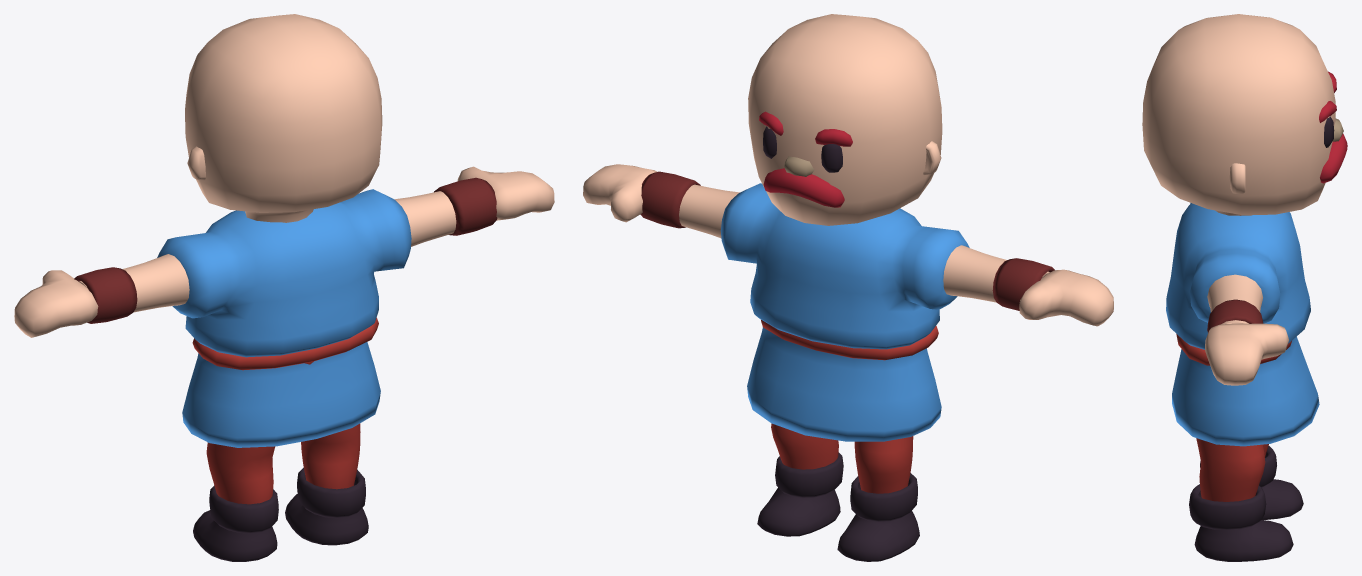
The model's file is man_08.fbx.
3 views of the same model, side by side, from view 1: azimuth 30°, elevation 25°; view 2: azimuth 150°, elevation 25°; view 3: azimuth 270°, elevation 25° (orthographic). The views are drawn at different scales.
Parts seen in each view (by area): view 1: Cube.012; view 2: Cube.012; view 3: Cube.012.
Part boxes in pixels (bbox=[...]): Cube.012: bbox=[14, 14, 554, 561]; Cube.012: bbox=[583, 14, 1113, 561]; Cube.012: bbox=[1142, 14, 1347, 561].
Bounding box in the file's own units: 476 × 440 × 163.
